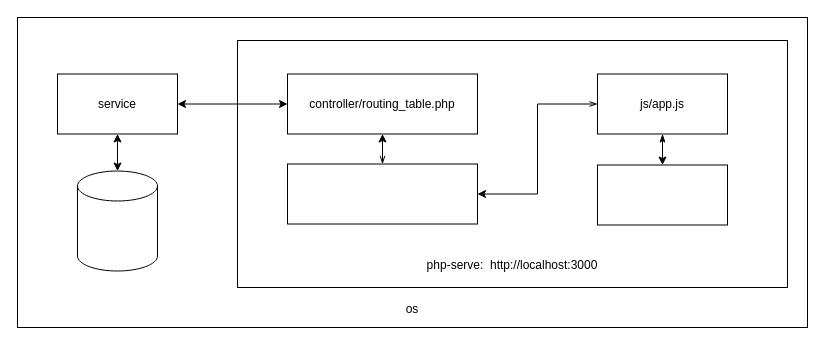
The diagram is 825 pixels wide and 345 high, and some of its shapes have lost their labels. Here are the shapes that lost their labels. From the top down, the box of each, then its label:
(286, 163, 478, 224): rest/routing_table.php
(596, 164, 728, 225): index.php
(76, 170, 158, 271): table.entries
